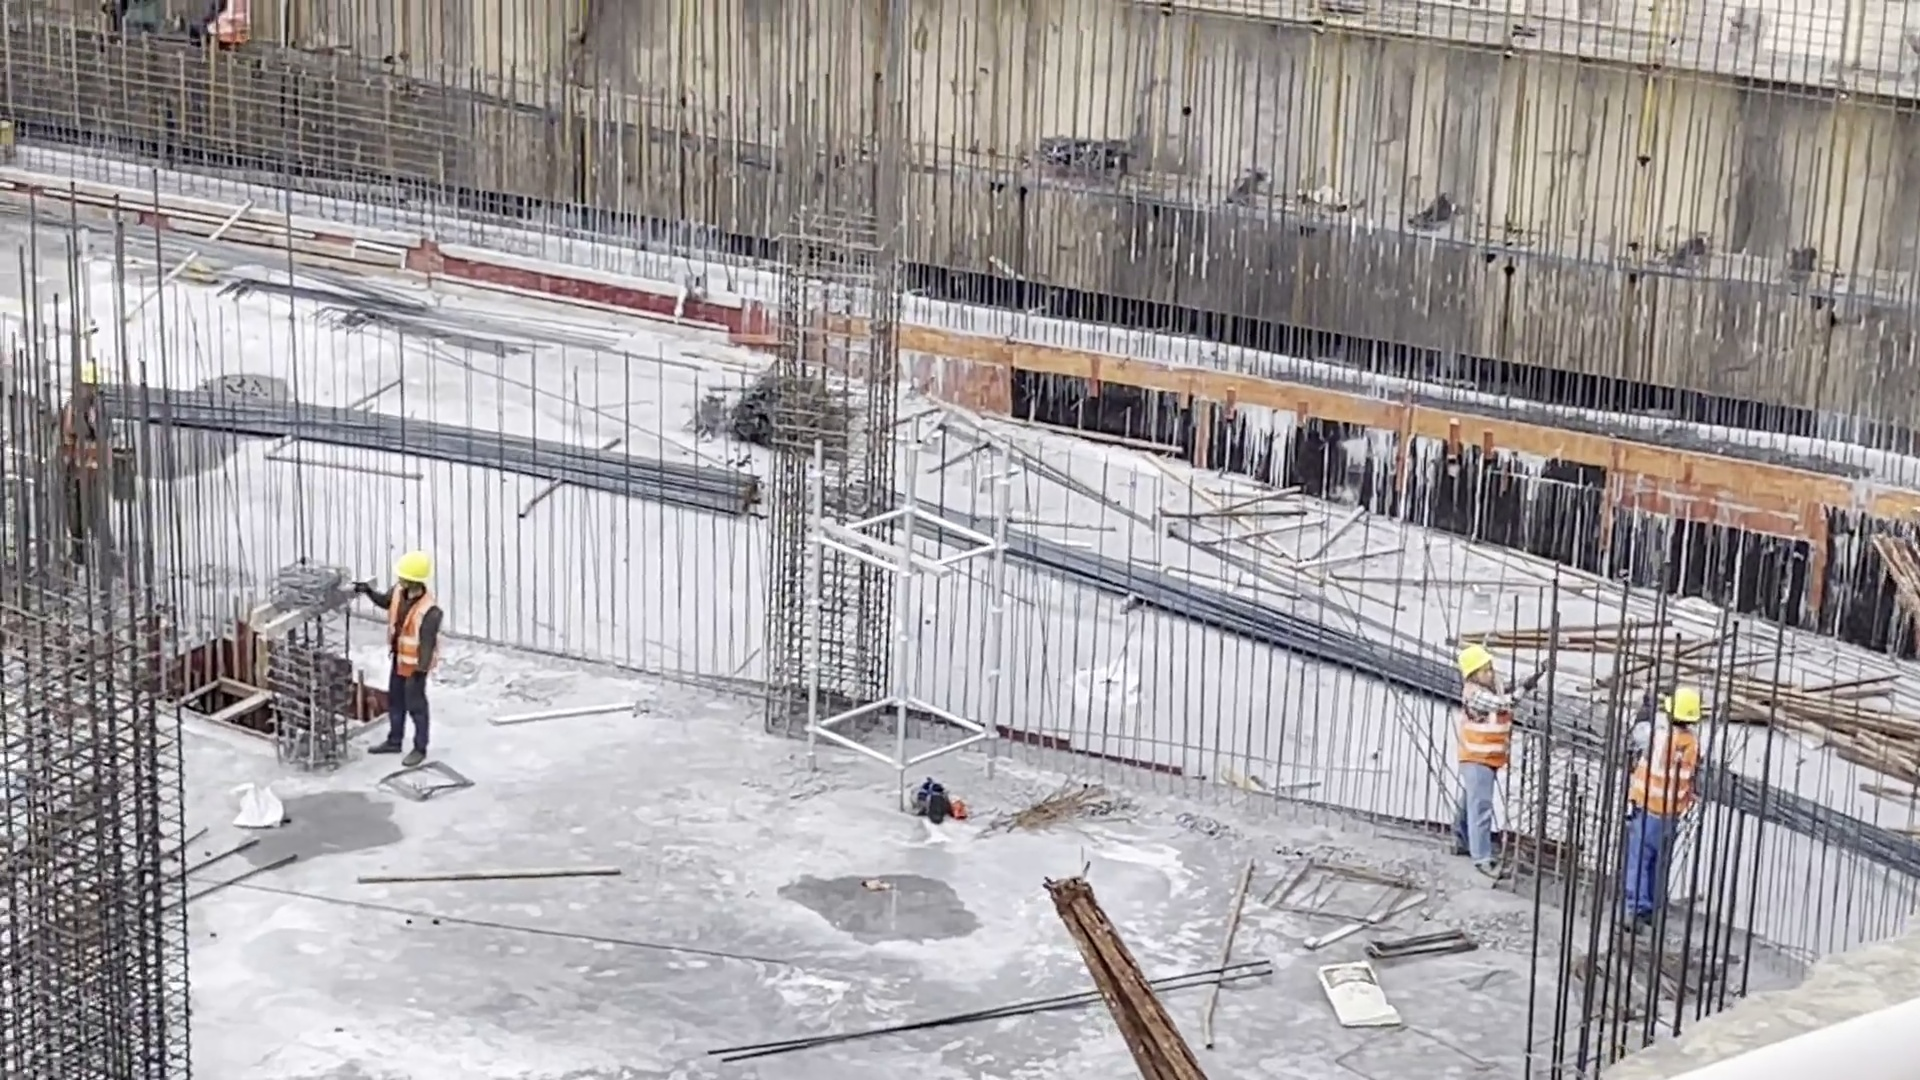helmet: (394, 541, 440, 589), (1667, 682, 1715, 728), (1460, 644, 1497, 677)
person: (1442, 642, 1531, 878), (1629, 688, 1702, 934), (386, 544, 445, 774)
vest: (1633, 726, 1701, 828), (1453, 687, 1514, 772), (390, 597, 438, 686), (213, 4, 254, 44)
